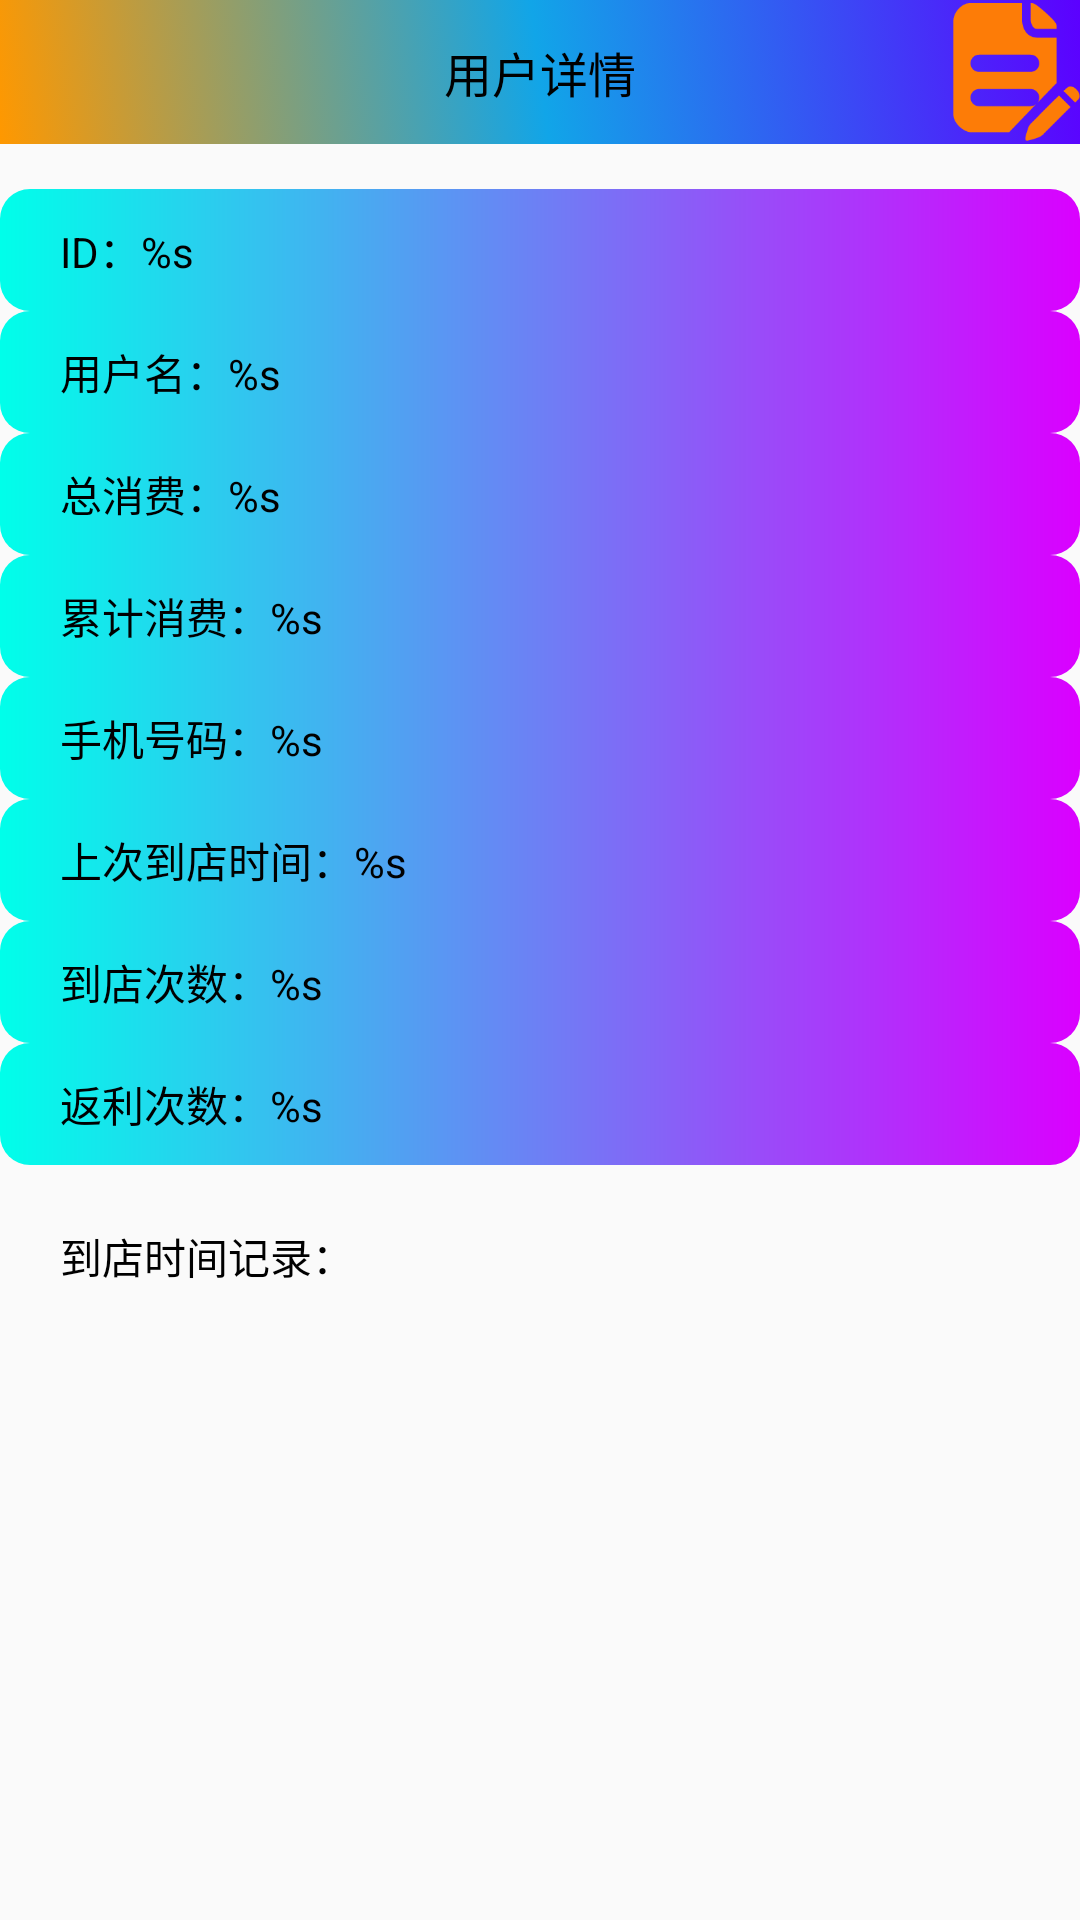

Point at icon controls on the screen. Image size 1080w x 1920h, points as point (x, y).
update: point (1008, 72)
